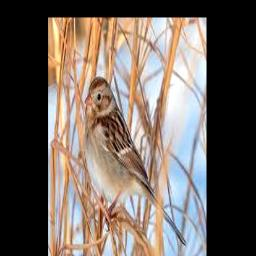Sparrow: (84, 76, 186, 247)
